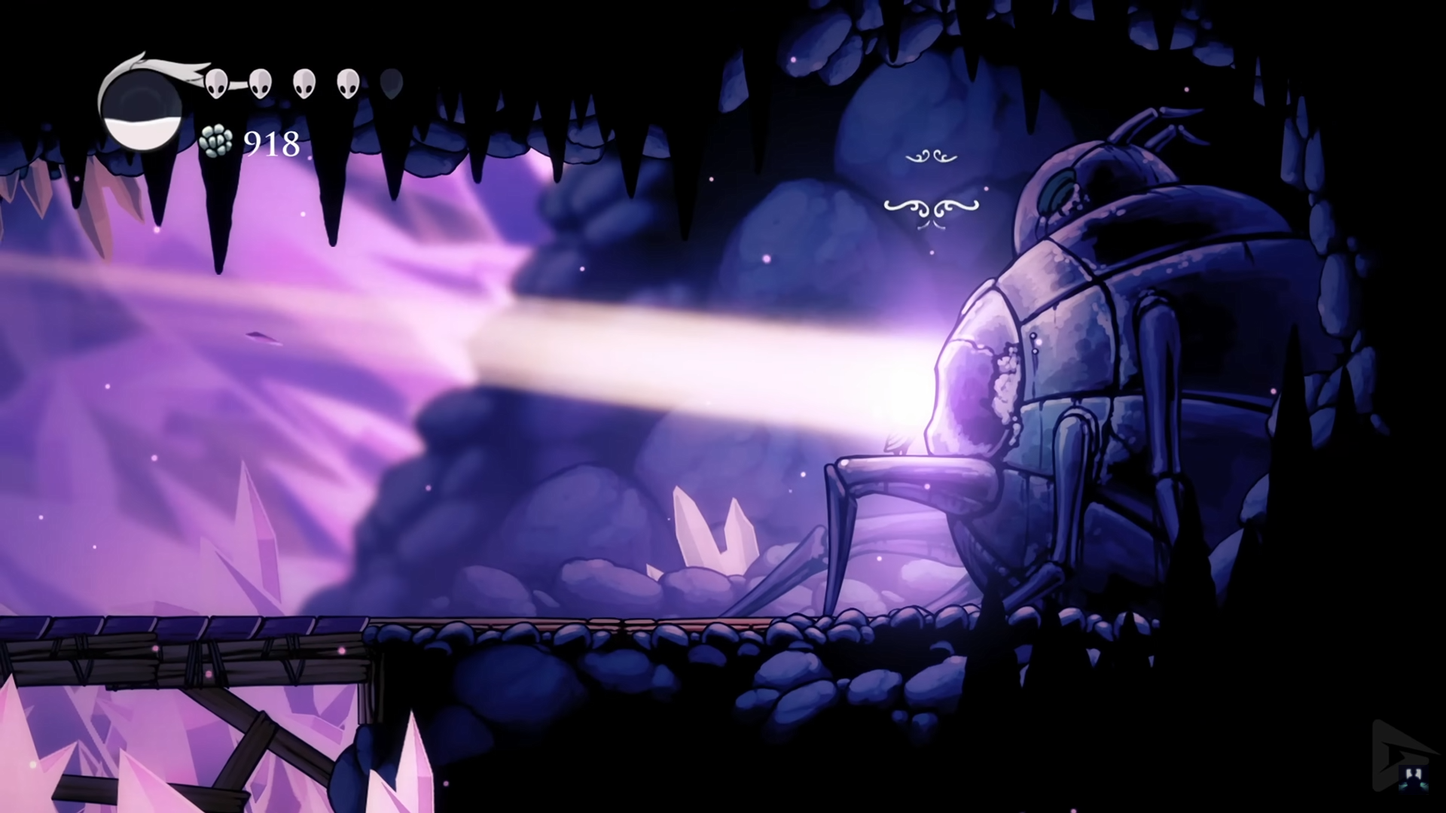HK: (877, 363, 929, 455)
